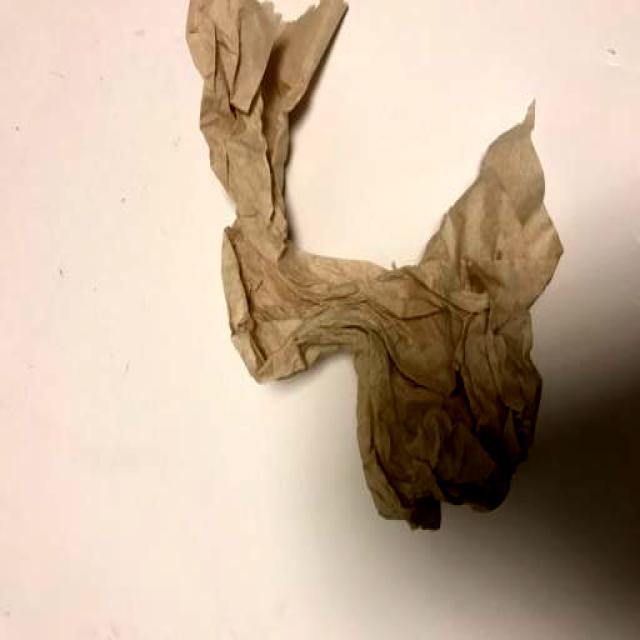Trash: (179, 5, 573, 541)
